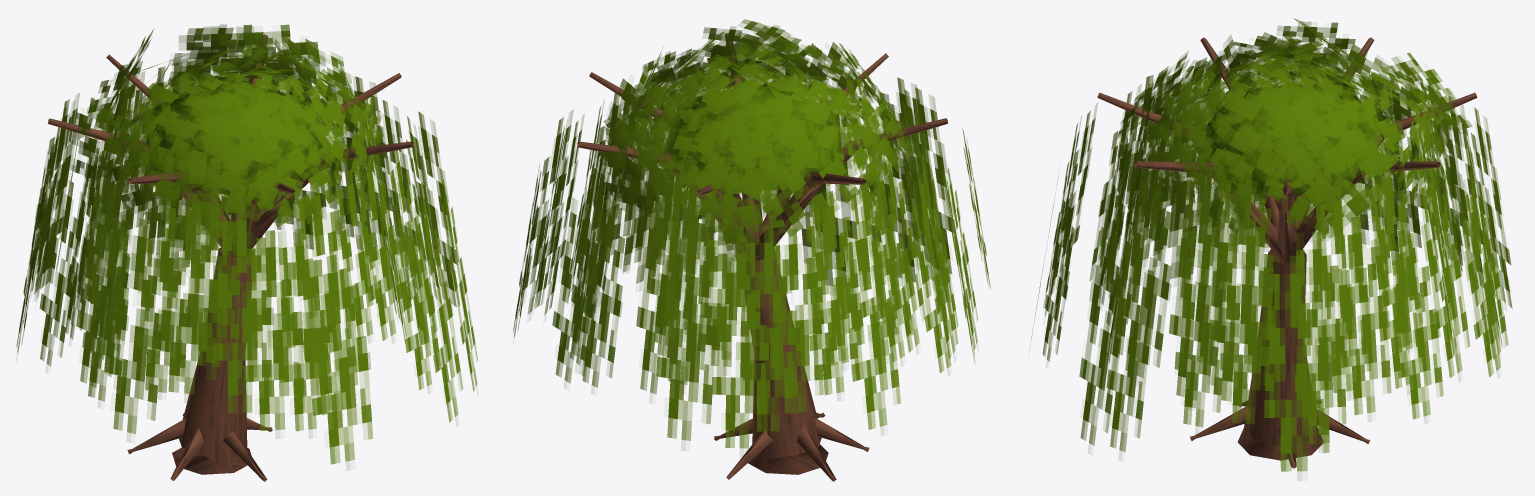
Rendered from willow_weeping.glb.
3 views of the same model, side by side, from view 1: azimuth 30°, elevation 25°; view 2: azimuth 150°, elevation 25°; view 3: azimuth 270°, elevation 25° (orthographic). The views are drawn at different scales.
Parts seen in each view (by area): view 1: willow_weeping_Leaf_Willow, willow_weeping_Bark_Dark, willow_weeping_Core_Willow; view 2: willow_weeping_Leaf_Willow, willow_weeping_Bark_Dark, willow_weeping_Core_Willow; view 3: willow_weeping_Leaf_Willow, willow_weeping_Bark_Dark, willow_weeping_Core_Willow.
Boxes of the visible parts, x1,y1,x2,y2 form: willow_weeping_Leaf_Willow: (16,24,477,464); willow_weeping_Bark_Dark: (47,34,413,481); willow_weeping_Core_Willow: (146,75,335,199); willow_weeping_Leaf_Willow: (513,19,990,448); willow_weeping_Bark_Dark: (577,33,948,481); willow_weeping_Core_Willow: (659,82,842,188); willow_weeping_Leaf_Willow: (1031,18,1512,471); willow_weeping_Bark_Dark: (1097,37,1477,468); willow_weeping_Core_Willow: (1194,82,1379,194).
Size of the model in its own units: 7.51 by 7.06 by 7.69.
Materials: 3 (2 with a texture image).
